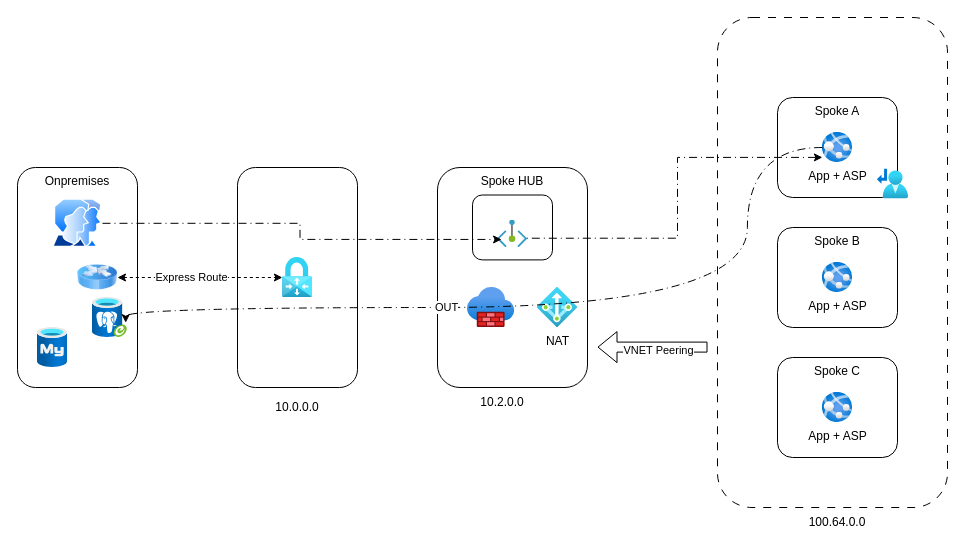
Some shapes in this 965 by 555 pixel diagram are drawn without their labels. Here are the shapes that lost their labels. From the top down, the box of each, then its label:
(877, 168, 908, 198): UDR
(472, 194, 552, 260): Private Endpoint Subnet
(236, 166, 358, 388): HUB
(716, 16, 948, 508): No Routing
(467, 287, 514, 327): Azure Firewall
